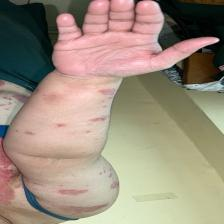Psoriasis vulgaris: (50, 112, 110, 132), (50, 182, 86, 201), (90, 86, 116, 98)
